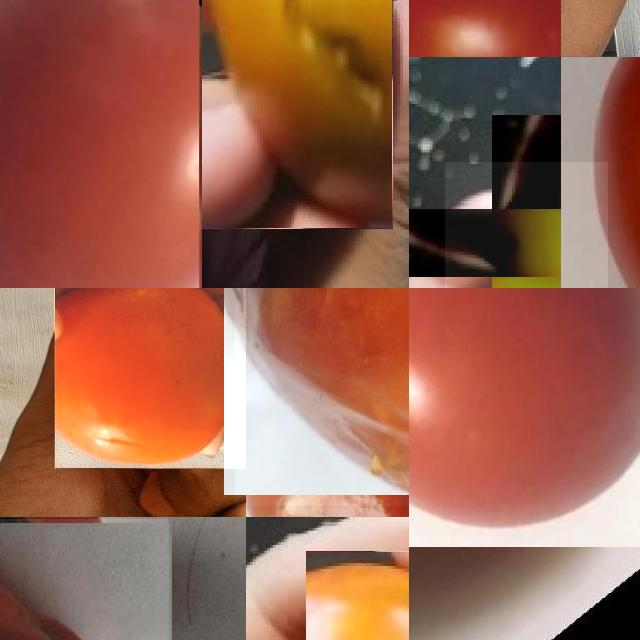0: (54, 288, 246, 469)
1: (235, 288, 409, 506), (0, 519, 169, 640)
Fresh Tomato: (409, 288, 640, 547), (0, 0, 200, 288), (561, 57, 640, 288)
Rotten Tomato: (202, 0, 392, 228), (445, 161, 607, 288)
